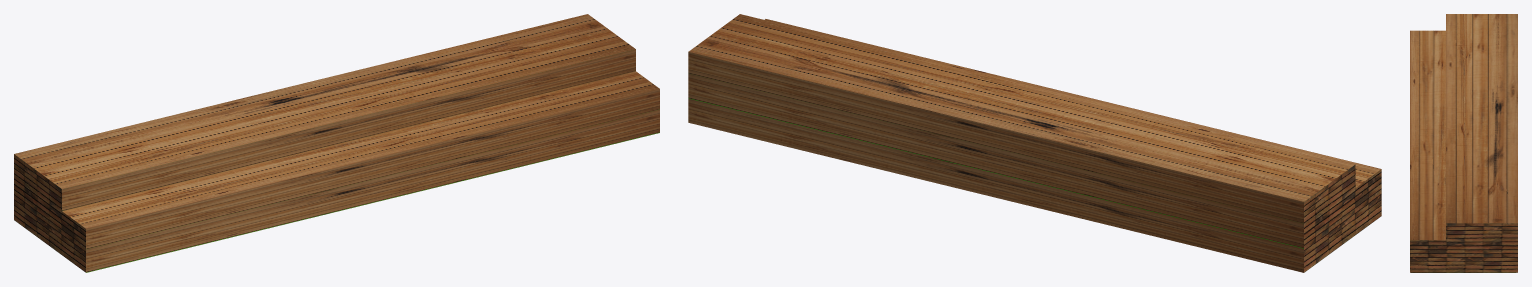
Rendered from lautapino.FBX.
3 views of the same model, side by side, from view 1: azimuth 30°, elevation 25°; view 2: azimuth 150°, elevation 25°; view 3: azimuth 270°, elevation 25° (orthographic). The views are drawn at different scales.
Parts seen in each view (by area): view 1: Box001; view 2: Box001; view 3: Box001.
Boxes of the visible parts, box(x1,y1,x2,y2) form: Box001: box(14, 14, 659, 272); Box001: box(688, 14, 1381, 272); Box001: box(1410, 14, 1517, 272).
Size of the model in its own units: 181 by 19.9 by 39.31.
1 material, 1 textured.
